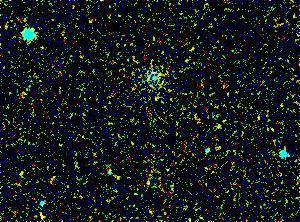star: (30, 200, 60, 222)
